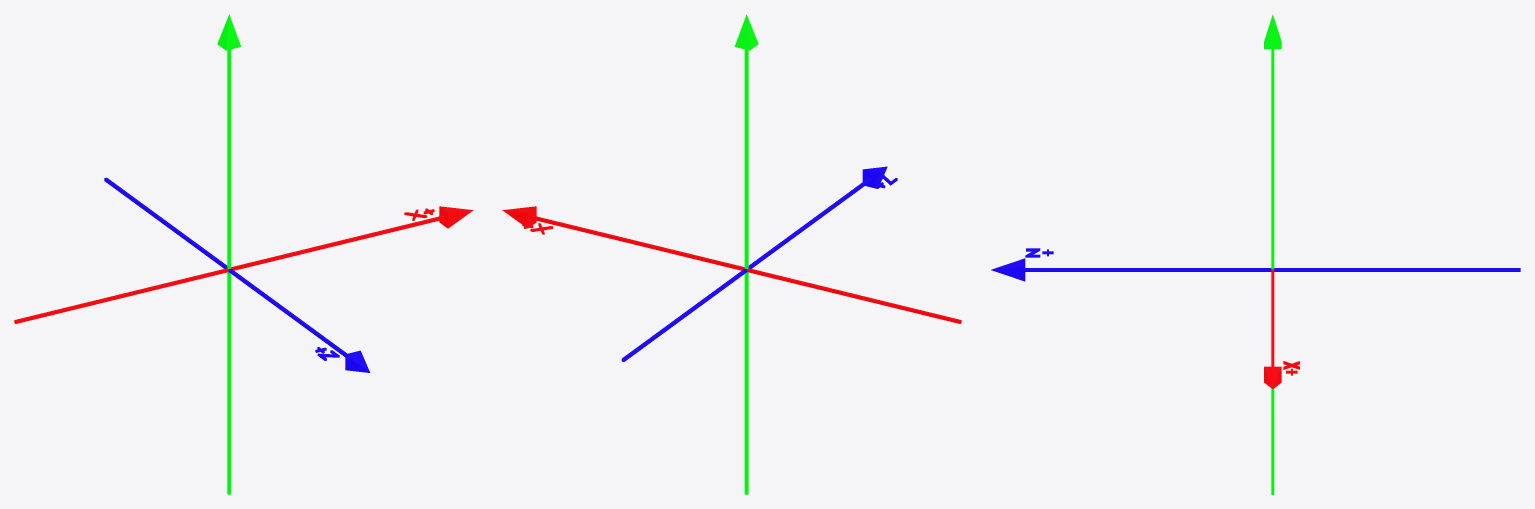
File: debug_axes.glb
3 views of the same model, side by side, from view 1: azimuth 30°, elevation 25°; view 2: azimuth 150°, elevation 25°; view 3: azimuth 270°, elevation 25° (orthographic).
Visible parts, largest first — view 1: Cube; view 2: Cube; view 3: Cube.
Boxes of the visible parts, x1,y1,x2,y2 form: Cube: (14, 14, 473, 494); Cube: (502, 14, 961, 494); Cube: (991, 14, 1520, 494).
Bounding box in the file's own units: 8.56 × 8.56 × 8.56.
